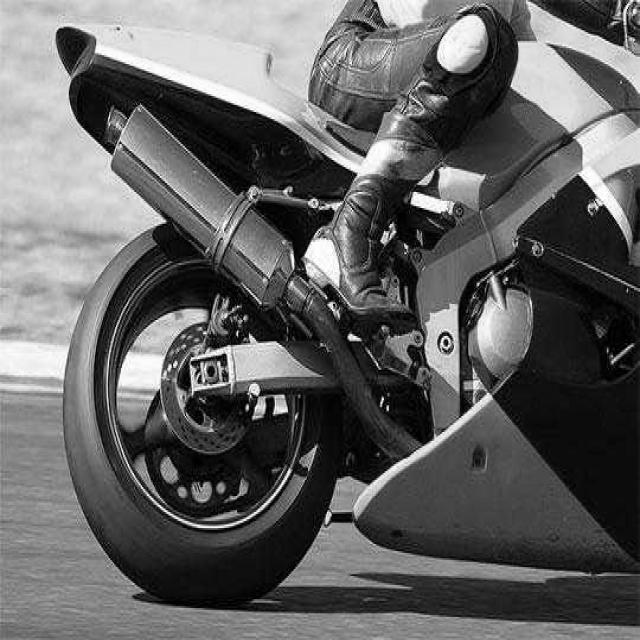Motorcycle: (56, 22, 640, 603)
